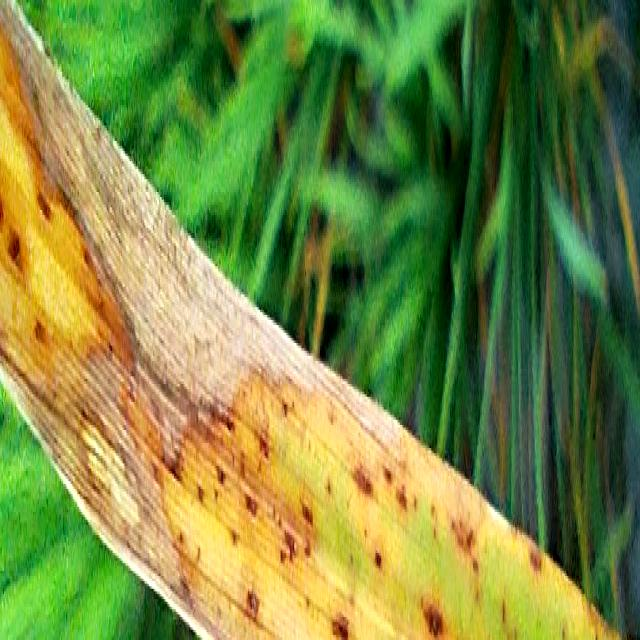NBS: (421, 605, 444, 640), (351, 463, 373, 496), (331, 615, 348, 640), (529, 546, 542, 575), (301, 497, 313, 527), (396, 491, 407, 514), (471, 553, 479, 577), (381, 468, 391, 483)
